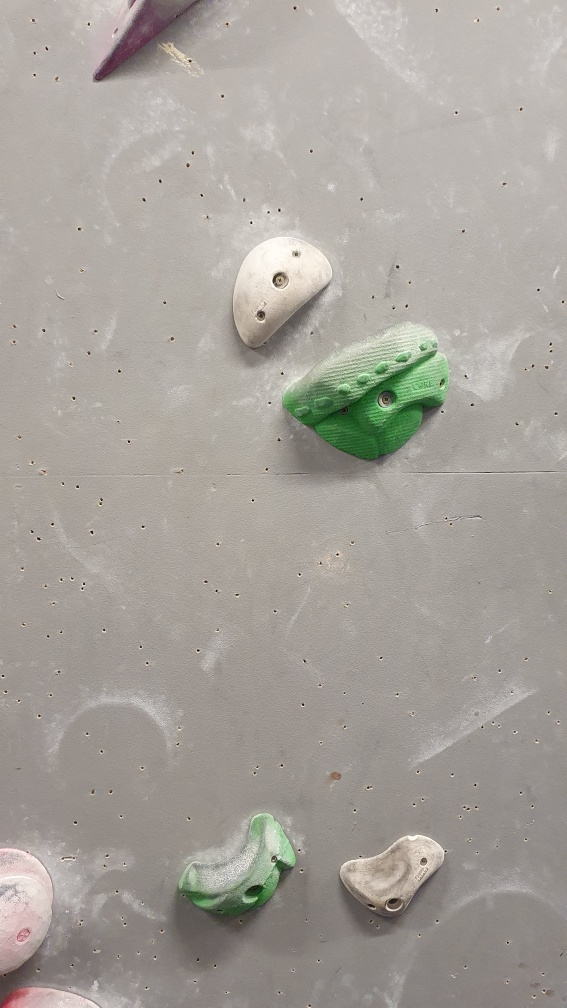Jug: (278, 316, 454, 463), (174, 807, 300, 926)
